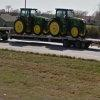Tractor: (14, 2, 90, 50)
